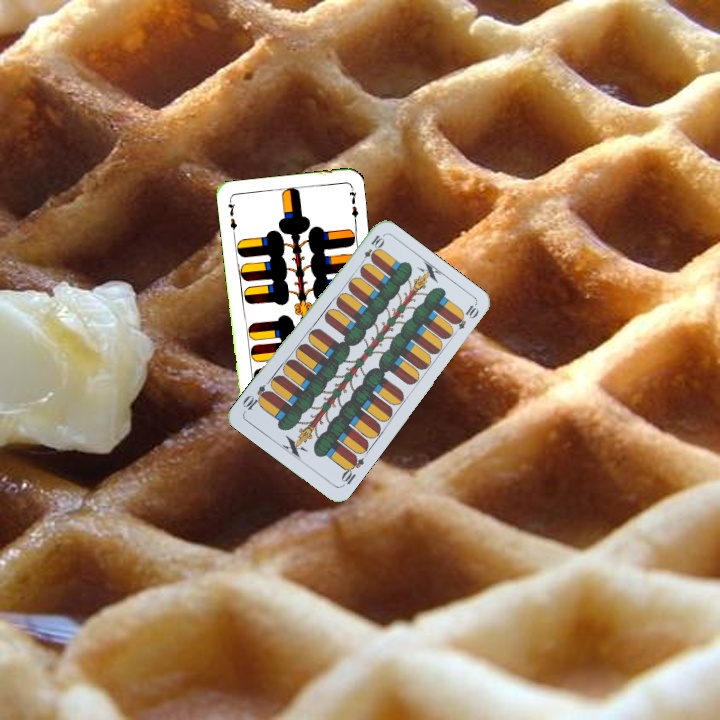E10: (356, 231, 386, 268), (337, 451, 366, 489)
E7: (224, 196, 239, 236)
